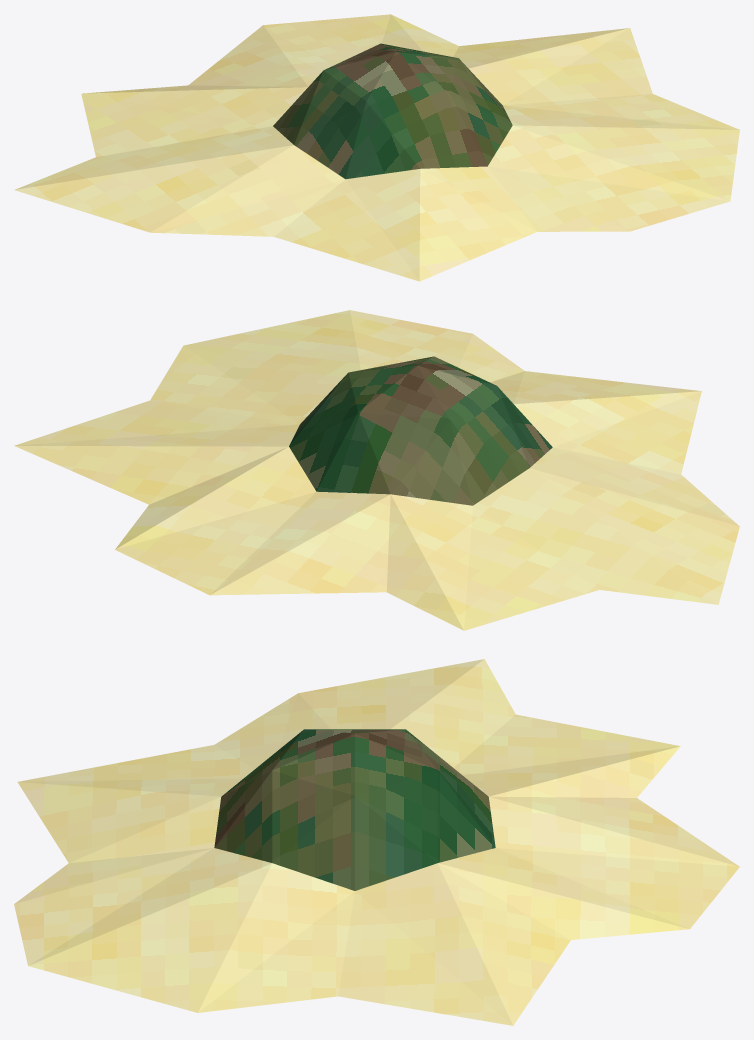
Rendered from RottenEgg.glb.
The picture shows the model from 3 angles, top to bottom: view 1: azimuth 30°, elevation 25°; view 2: azimuth 150°, elevation 25°; view 3: azimuth 270°, elevation 25°; orthographic projection. The views are drawn at different scales.
Parts seen in each view (by area): view 1: GeoSphere001; view 2: GeoSphere001; view 3: GeoSphere001.
Boxes of the visible parts, box(x1,y1,x2,y2) form: GeoSphere001: box(14, 14, 739, 281); GeoSphere001: box(14, 310, 739, 630); GeoSphere001: box(14, 659, 739, 1025).
Bounding box in the file's own units: 0.7875 × 0.117 × 0.6586.
Materials: 1 (1 with a texture image).
